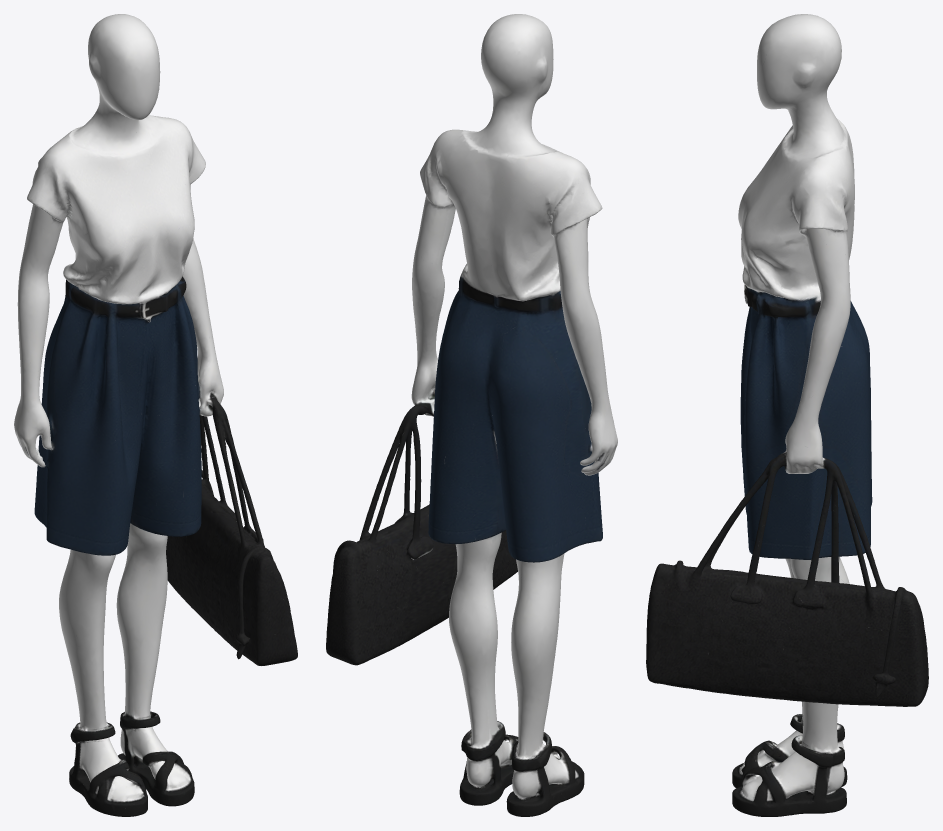
The model's file is look02.glb.
3 views of the same model, side by side, from view 1: azimuth 30°, elevation 25°; view 2: azimuth 150°, elevation 25°; view 3: azimuth 270°, elevation 25° (orthographic).
Size of the model in its own units: 0.6266 by 1.9 by 0.627.
Materials: 1 (1 with a texture image).
